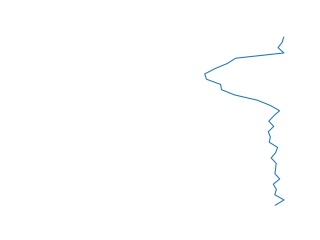distalBar: (197, 37, 291, 206)
